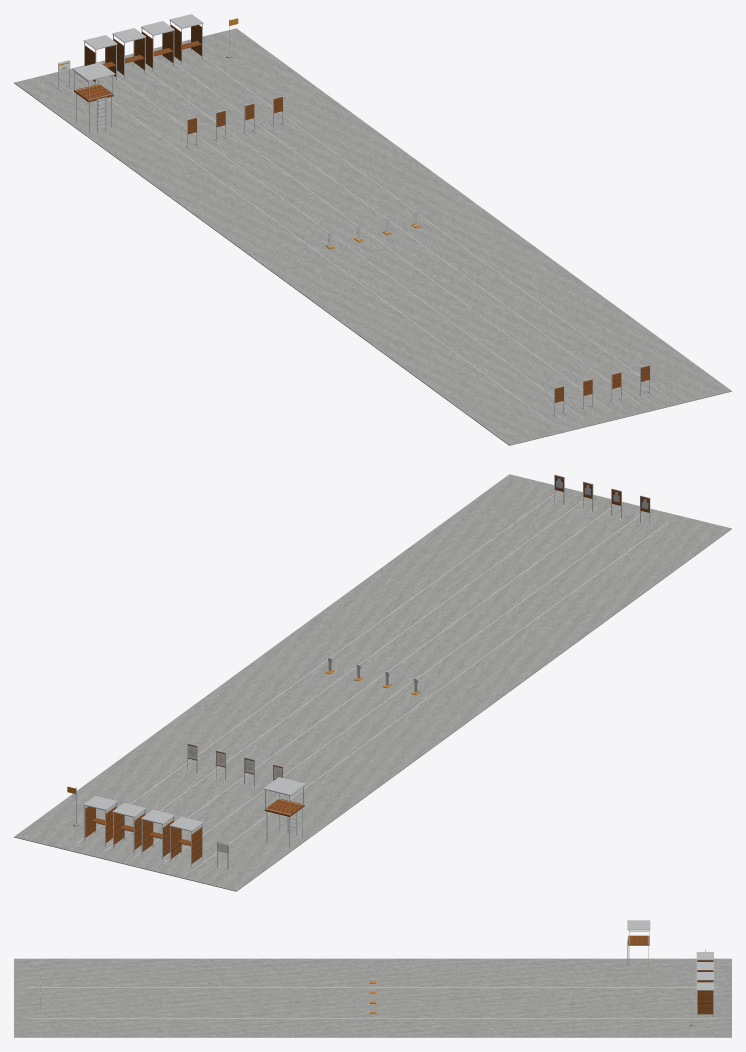
Rendered from fps-weapon-set-and-firing-range-four-lan-04475886-starter-scene__19544.glb.
3 renders of one model, top to bottom at view 1: azimuth 30°, elevation 25°; view 2: azimuth 150°, elevation 25°; view 3: azimuth 270°, elevation 25°, orthographic. The views are drawn at different scales.
Parts seen in each view (by area): view 1: 019-range-lane-foundation/0, 019-range-lane-foundation/1; view 2: 019-range-lane-foundation/0, 019-range-lane-foundation/1, 000-lane-booth/1; view 3: 019-range-lane-foundation/0, 019-range-lane-foundation/1, 012-lane-booth/1, 018-range-officer-tower/2, 018-range-officer-tower/1.
Boxes of the visible parts, x1,y1,x2,y2 form: 019-range-lane-foundation/0: (14,28,731,445); 019-range-lane-foundation/1: (77,56,668,424); 019-range-lane-foundation/0: (14,474,731,891); 019-range-lane-foundation/1: (77,494,668,871); 000-lane-booth/1: (171,827,202,863); 019-range-lane-foundation/0: (14,958,731,1037); 019-range-lane-foundation/1: (27,977,718,1018); 012-lane-booth/1: (697,990,712,1014); 018-range-officer-tower/2: (627,920,650,930); 018-range-officer-tower/1: (628,935,649,945).
Size of the model in its own units: 14 by 3.3 by 54.
7 materials, 3 textured.
